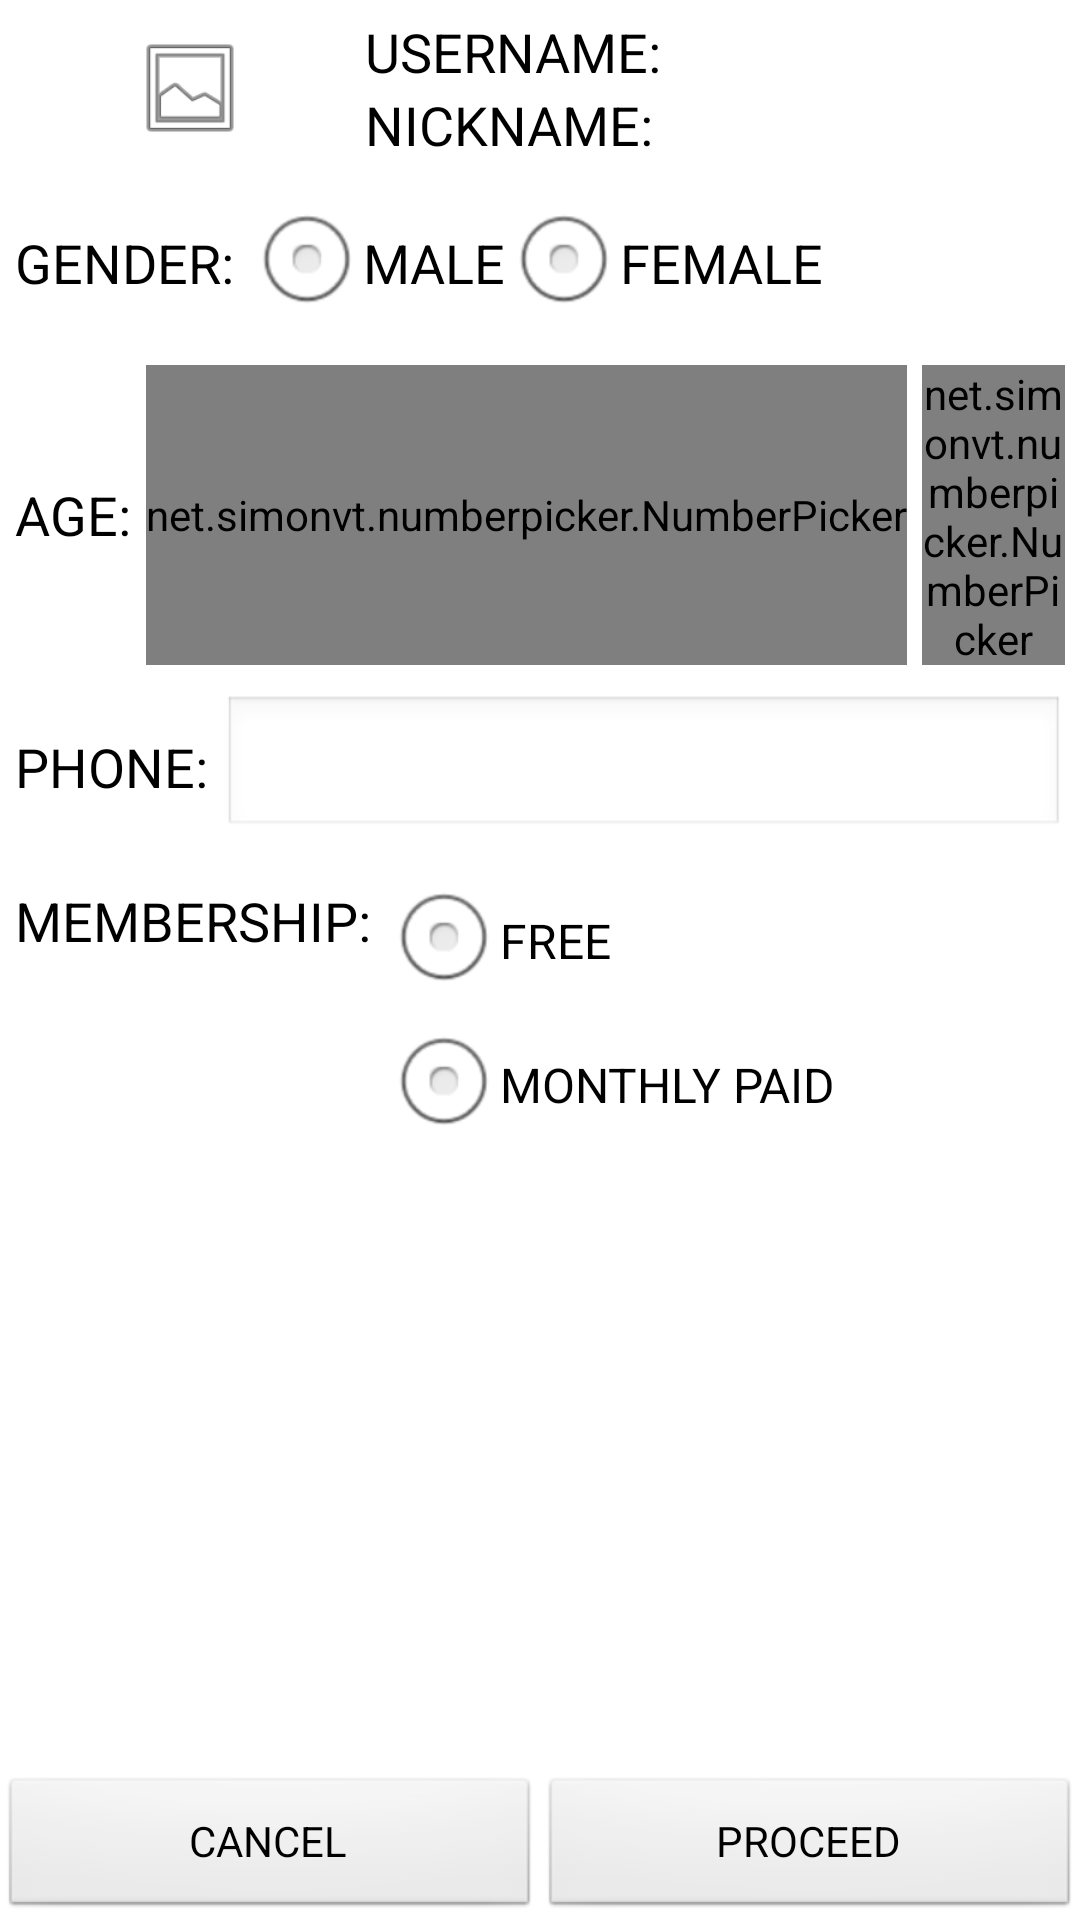

Where icons sit on this 1080×1920 app screen, as [x1,y1,x2,y2]:
gallery: [146,44,234,132]
